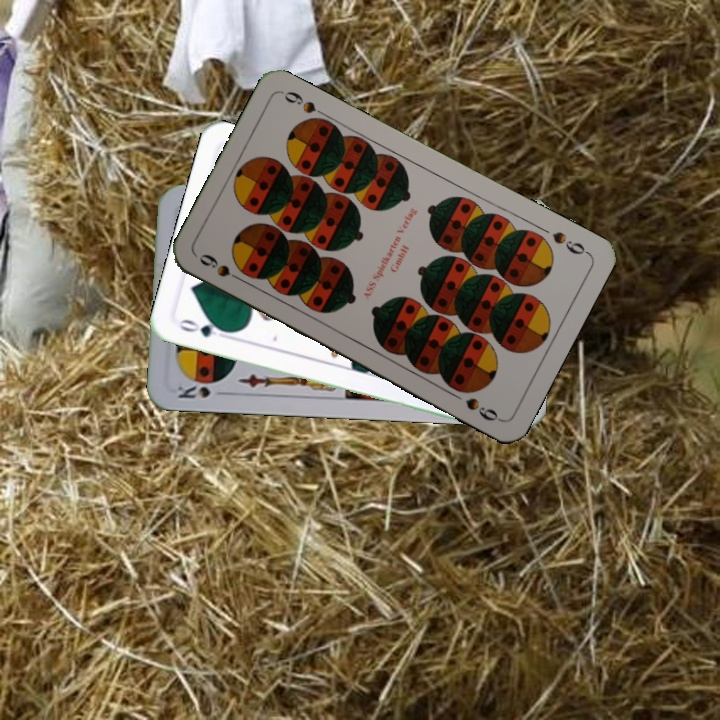GO: (175, 315, 233, 342)
S9: (195, 249, 249, 286), (548, 227, 591, 258)
SK: (173, 378, 213, 401)
